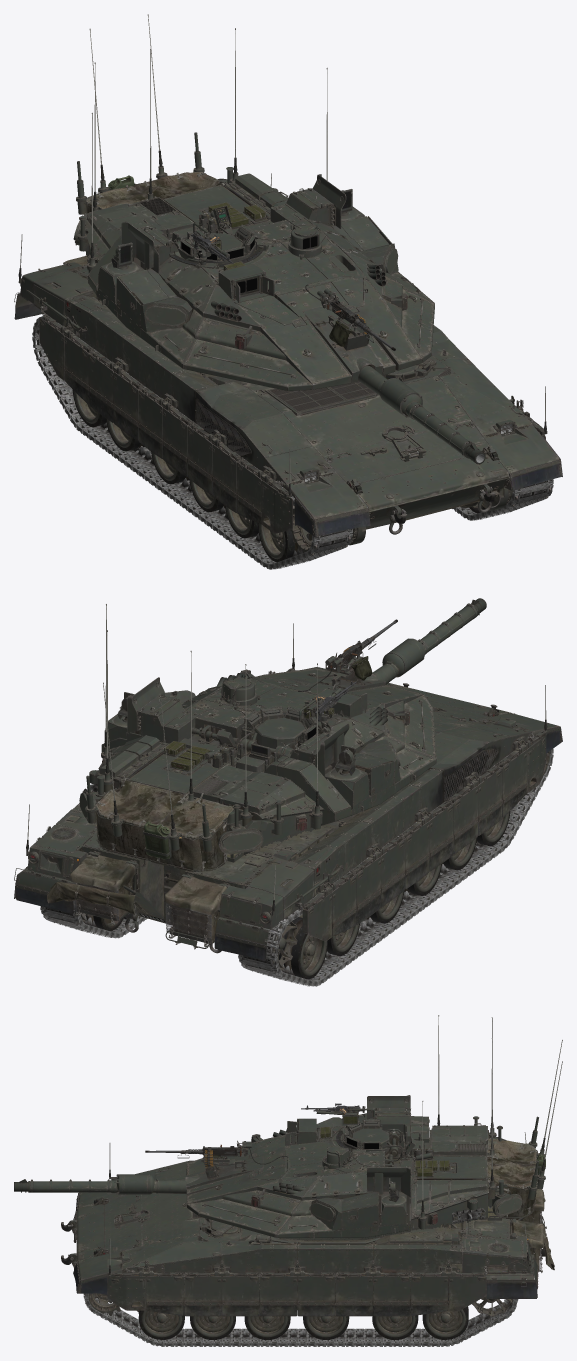
Rendered from merkava-mk4m.glb.
3 views of the same model, one above another, from view 1: azimuth 30°, elevation 25°; view 2: azimuth 150°, elevation 25°; view 3: azimuth 270°, elevation 25° (orthographic). The views are drawn at different scales.
Visible parts, largest first — view 1: vehicle_hatch_29_19_25a791af_1b11_4663_9c9f_2702e6569a12_0, vehicle_bone_turret_104_f6143708_c80f_4731_80fa_8d3946425f2b, vehicle_hatch_27_0_0974e0df_0133_460c_a314_ae8167b5e339_0, vehicle_bone_turret_104_1430b1a2_2f03_4c47_a15c_c0951d4e6add, vehicle_track_r_168_1e000d3b_37d5_4df1_9bd8_13e4b6aa684e_0, vehicle_bone_gun_107_0913e964_5e56_4f83_b73f_655c2874cccb_0, vehicle_ex_armor_body_02_7_4467d111_f40b_42fa_9a6d_c566e381c, vehicle_x_root_174_17803d08_54cd_4b00_959c_a442c0c8f922_0, vehicle_bone_mg_aa_v_106_9e2fba9a_7a2a_47e4_91cd_1eb78f26041; view 2: vehicle_hatch_29_19_25a791af_1b11_4663_9c9f_2702e6569a12_0, vehicle_bone_turret_104_1430b1a2_2f03_4c47_a15c_c0951d4e6add, vehicle_bone_turret_104_f6143708_c80f_4731_80fa_8d3946425f2b, vehicle_hatch_27_0_0974e0df_0133_460c_a314_ae8167b5e339_0, vehicle_track_r_168_1e000d3b_37d5_4df1_9bd8_13e4b6aa684e_0, vehicle_bone_gun_107_0913e964_5e56_4f83_b73f_655c2874cccb_0, vehicle_ex_armor_body_03_39_5bd1fb48_2639_4755_b147_11c5f127, vehicle_bone_mg_aa_v_106_9e2fba9a_7a2a_47e4_91cd_1eb78f26041, vehicle_x_root_174_17803d08_54cd_4b00_959c_a442c0c8f922_0, vehicle_ex_decor_13_159_54de2bec_de70_4262_a059_221e0d7508fb, vehicle_mg_twin_109_4ebc4a31_5965_4624_8619_f096096c2ab7_0; view 3: vehicle_hatch_29_19_25a791af_1b11_4663_9c9f_2702e6569a12_0, vehicle_bone_turret_104_f6143708_c80f_4731_80fa_8d3946425f2b, vehicle_hatch_27_0_0974e0df_0133_460c_a314_ae8167b5e339_0, vehicle_bone_turret_104_1430b1a2_2f03_4c47_a15c_c0951d4e6add, vehicle_track_r_168_1e000d3b_37d5_4df1_9bd8_13e4b6aa684e_0, vehicle_bone_gun_107_0913e964_5e56_4f83_b73f_655c2874cccb_0, vehicle_bone_mg_aa_v_106_9e2fba9a_7a2a_47e4_91cd_1eb78f26041, vehicle_mg_twin_109_4ebc4a31_5965_4624_8619_f096096c2ab7_0.
Boxes of the visible parts, x1,y1,x2,y2 form: vehicle_hatch_29_19_25a791af_1b11_4663_9c9f_2702e6569a12_0: (14,173,562,537); vehicle_bone_turret_104_f6143708_c80f_4731_80fa_8d3946425f2b: (77,14,434,390); vehicle_hatch_27_0_0974e0df_0133_460c_a314_ae8167b5e339_0: (48,267,551,562); vehicle_bone_turret_104_1430b1a2_2f03_4c47_a15c_c0951d4e6add: (73,132,432,367); vehicle_track_r_168_1e000d3b_37d5_4df1_9bd8_13e4b6aa684e_0: (32,316,553,569); vehicle_bone_gun_107_0913e964_5e56_4f83_b73f_655c2874cccb_0: (302,288,485,464); vehicle_ex_armor_body_02_7_4467d111_f40b_42fa_9a6d_c566e381c: (270,381,374,411); vehicle_x_root_174_17803d08_54cd_4b00_959c_a442c0c8f922_0: (196,399,250,456); vehicle_bone_mg_aa_v_106_9e2fba9a_7a2a_47e4_91cd_1eb78f26041: (208,202,265,270); vehicle_hatch_29_19_25a791af_1b11_4663_9c9f_2702e6569a12_0: (14,623,562,961); vehicle_bone_turret_104_1430b1a2_2f03_4c47_a15c_c0951d4e6add: (79,668,435,871); vehicle_bone_turret_104_f6143708_c80f_4731_80fa_8d3946425f2b: (89,604,436,847); vehicle_hatch_27_0_0974e0df_0133_460c_a314_ae8167b5e339_0: (77,683,550,979); vehicle_track_r_168_1e000d3b_37d5_4df1_9bd8_13e4b6aa684e_0: (40,736,553,986); vehicle_bone_gun_107_0913e964_5e56_4f83_b73f_655c2874cccb_0: (306,598,486,691); vehicle_ex_armor_body_03_39_5bd1fb48_2639_4755_b147_11c5f127: (73,671,268,943); vehicle_bone_mg_aa_v_106_9e2fba9a_7a2a_47e4_91cd_1eb78f26041: (164,706,334,770); vehicle_x_root_174_17803d08_54cd_4b00_959c_a442c0c8f922_0: (444,749,497,800); vehicle_ex_decor_13_159_54de2bec_de70_4262_a059_221e0d7508fb: (123,821,169,859); vehicle_mg_twin_109_4ebc4a31_5965_4624_8619_f096096c2ab7_0: (330,619,397,669); vehicle_hatch_29_19_25a791af_1b11_4663_9c9f_2702e6569a12_0: (61,1132,554,1316); vehicle_bone_turret_104_f6143708_c80f_4731_80fa_8d3946425f2b: (186,1015,562,1240); vehicle_hatch_27_0_0974e0df_0133_460c_a314_ae8167b5e339_0: (69,1179,512,1339); vehicle_bone_turret_104_1430b1a2_2f03_4c47_a15c_c0951d4e6add: (249,1095,545,1240); vehicle_track_r_168_1e000d3b_37d5_4df1_9bd8_13e4b6aa684e_0: (83,1273,518,1346); vehicle_bone_gun_107_0913e964_5e56_4f83_b73f_655c2874cccb_0: (14,1140,263,1194); vehicle_bone_mg_aa_v_106_9e2fba9a_7a2a_47e4_91cd_1eb78f26041: (320,1113,449,1176); vehicle_mg_twin_109_4ebc4a31_5965_4624_8619_f096096c2ab7_0: (145,1144,242,1158).
Bounding box in the file's own units: 0.1021 × 0.1234 × 0.2379.
Materials: 22 (21 with a texture image).
